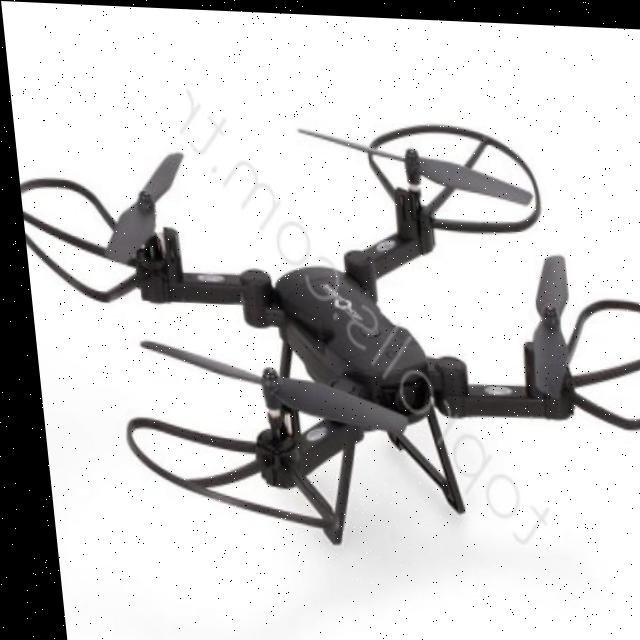drones: (2, 19, 640, 572)
